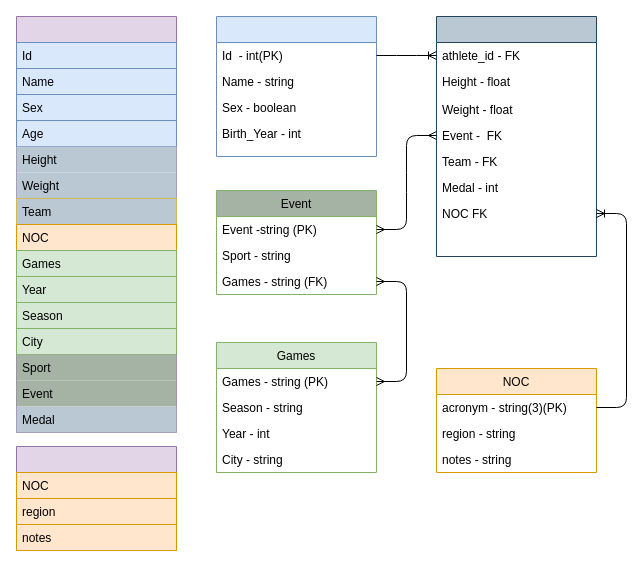
Image size: 643x567. Some labels were removed from this diagram. Here are the shapes that lost their labels. From the top down, the box of each, then its label:
(216, 16, 376, 156): athlete
(436, 16, 596, 256): athlete_event_stat
(16, 16, 176, 432): athlete_events.csv
(16, 446, 176, 550): noc_regions.csv
